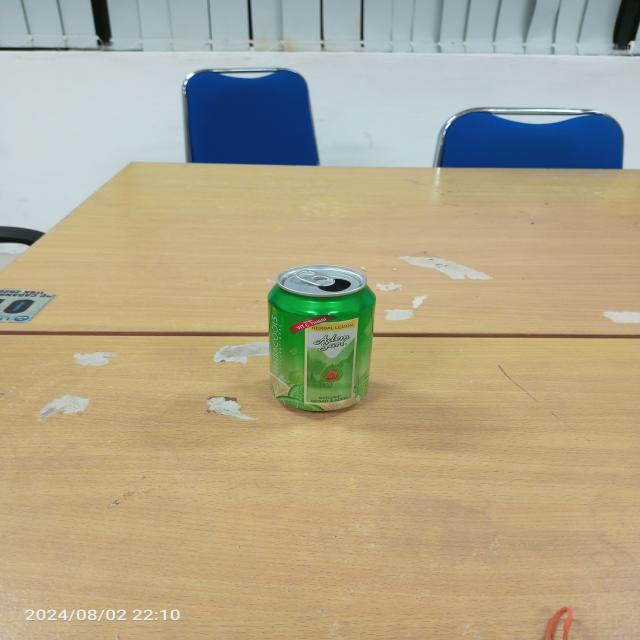ademsarikaleng: (265, 263, 377, 413)
